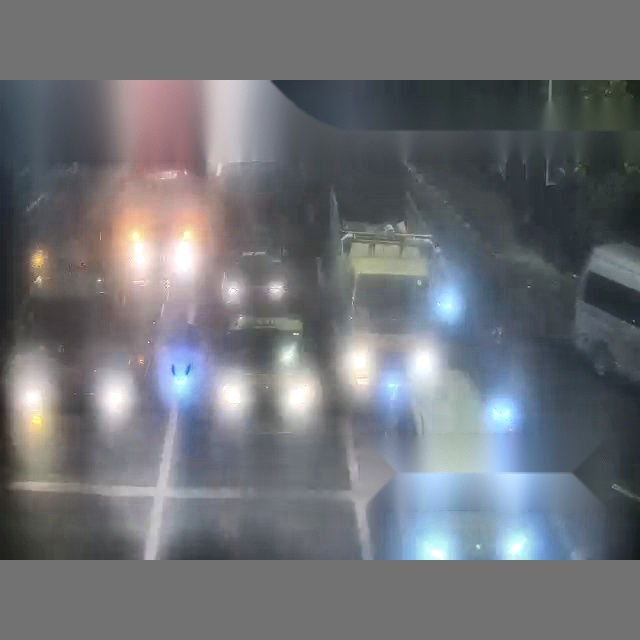Mobil: (573, 243, 640, 382)
